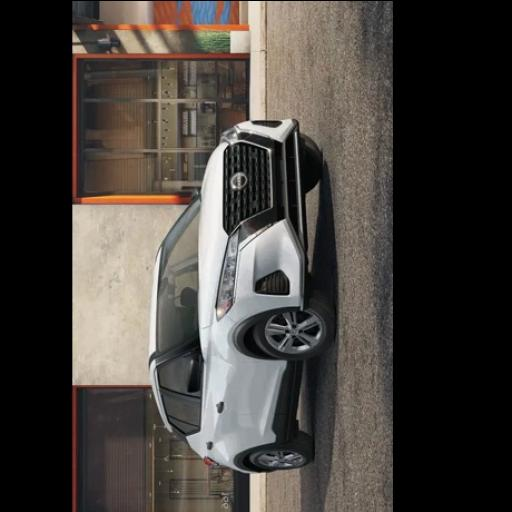suv: (149, 118, 335, 471)
